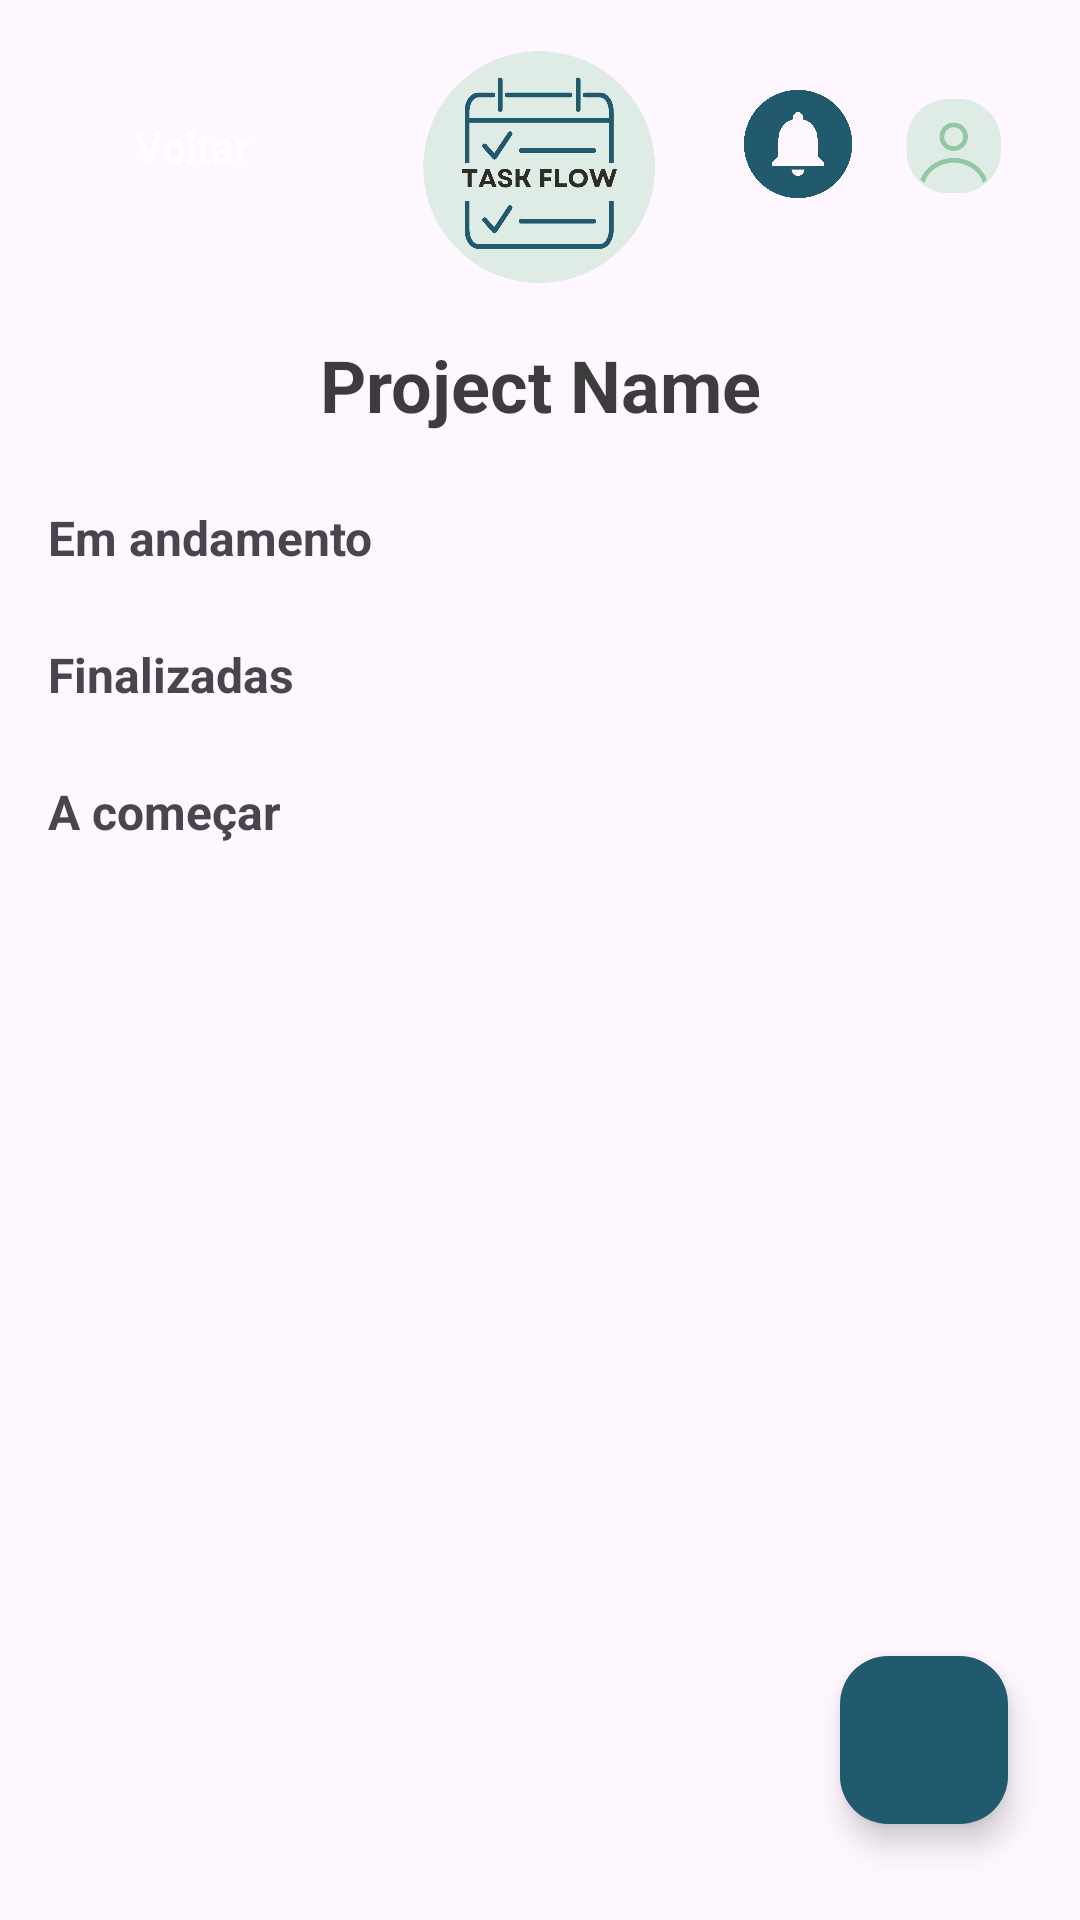

Screen size 1080w x 1920h. Icon name, then its box in pixels as (x1, y1, x2, y2):
notificationbllue: (744, 90, 852, 198)
usertype: (907, 99, 1001, 193)
